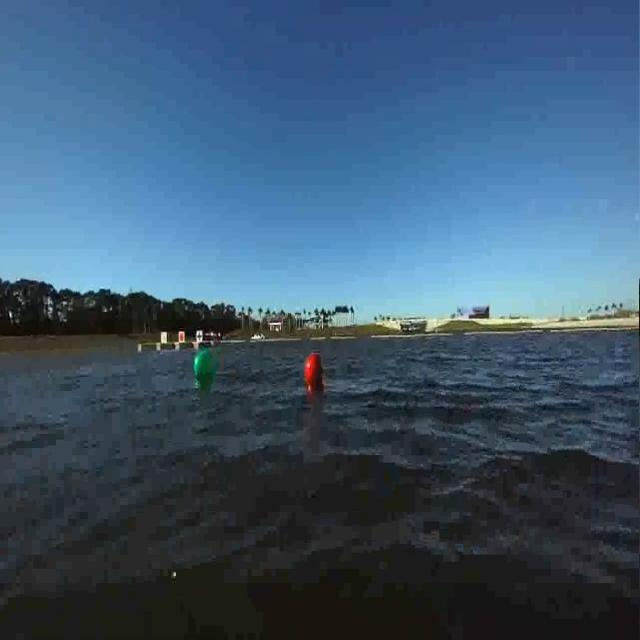green-buoy: (191, 344, 216, 379)
red-buoy: (299, 358, 325, 412)
